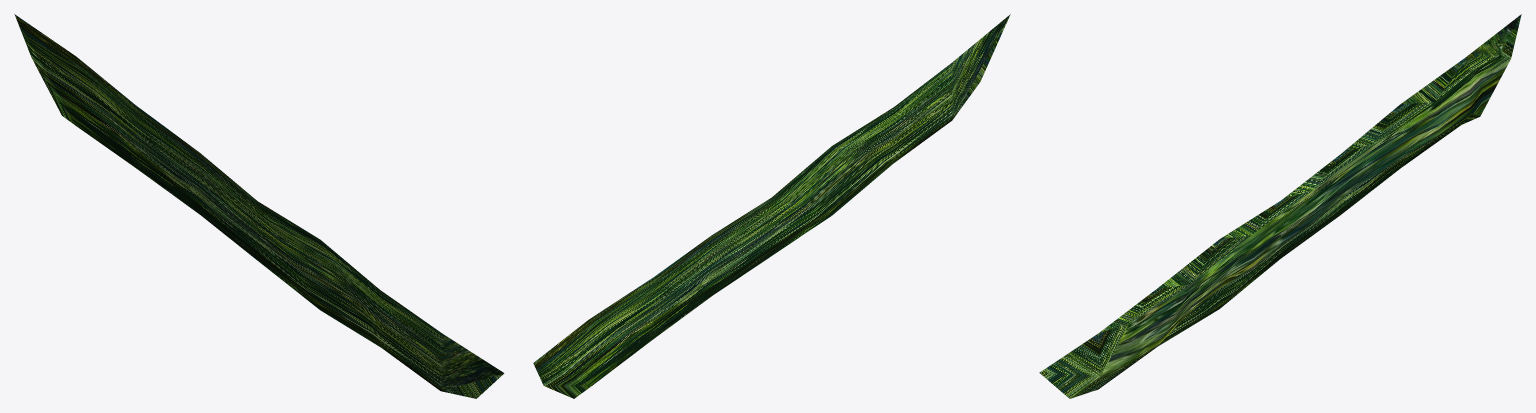
3 views of the same model, side by side, from view 1: azimuth 30°, elevation 25°; view 2: azimuth 150°, elevation 25°; view 3: azimuth 330°, elevation 25° (orthographic).
Visible parts, largest first — view 1: algae_cube_Cube; view 2: algae_cube_Cube; view 3: algae_cube_Cube.
Boxes of the visible parts, box(x1,y1,x2,y2) form: algae_cube_Cube: box(14, 14, 504, 398); algae_cube_Cube: box(533, 14, 1010, 398); algae_cube_Cube: box(1039, 14, 1521, 398).
Size of the model in its own units: 0.0156 by 0.1711 by 2.05.
